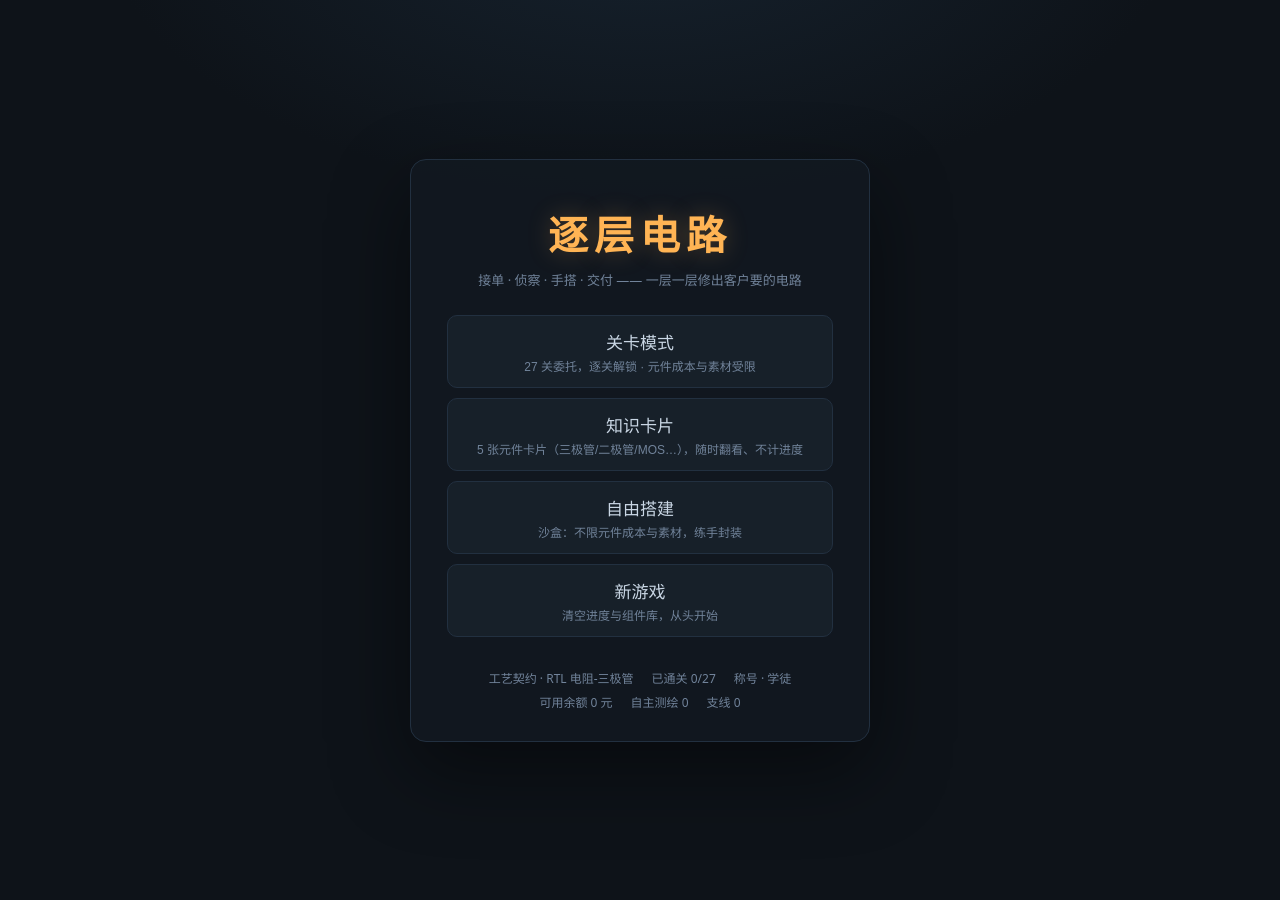
Scenario: 逻辑关电平文字：只显示 1 / 0（用户第 ⑭ 轮） › ④ 反证：自由模式（载入非门示例，含元件）图例与画布照旧带强/弱
Click the button "自由搭建 沙盒：不限元件成本与素材，练手封装".
click(640, 517)  # box [447,480,833,554]
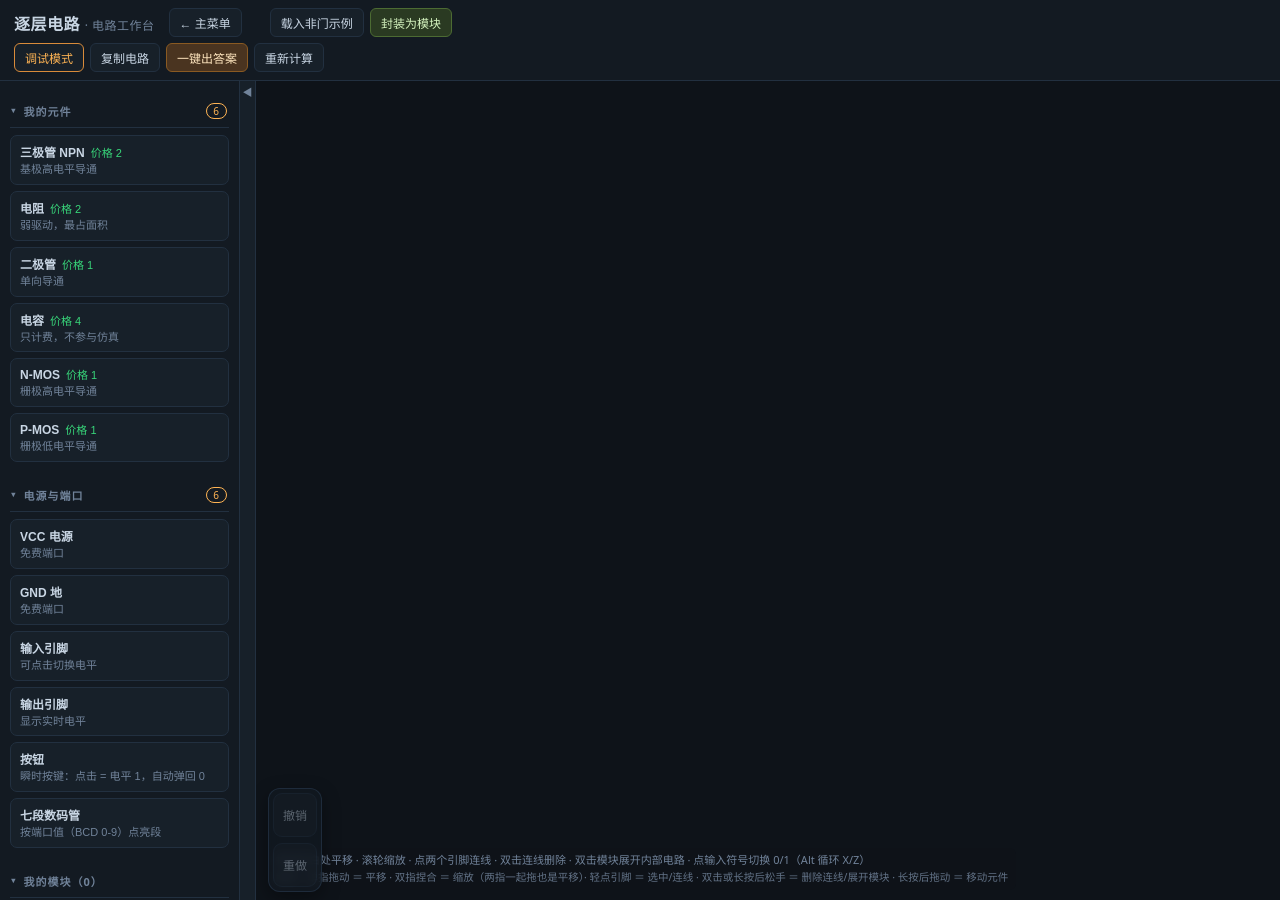
Click the button "载入非门示例".
click(317, 22)  # box [270,8,364,37]
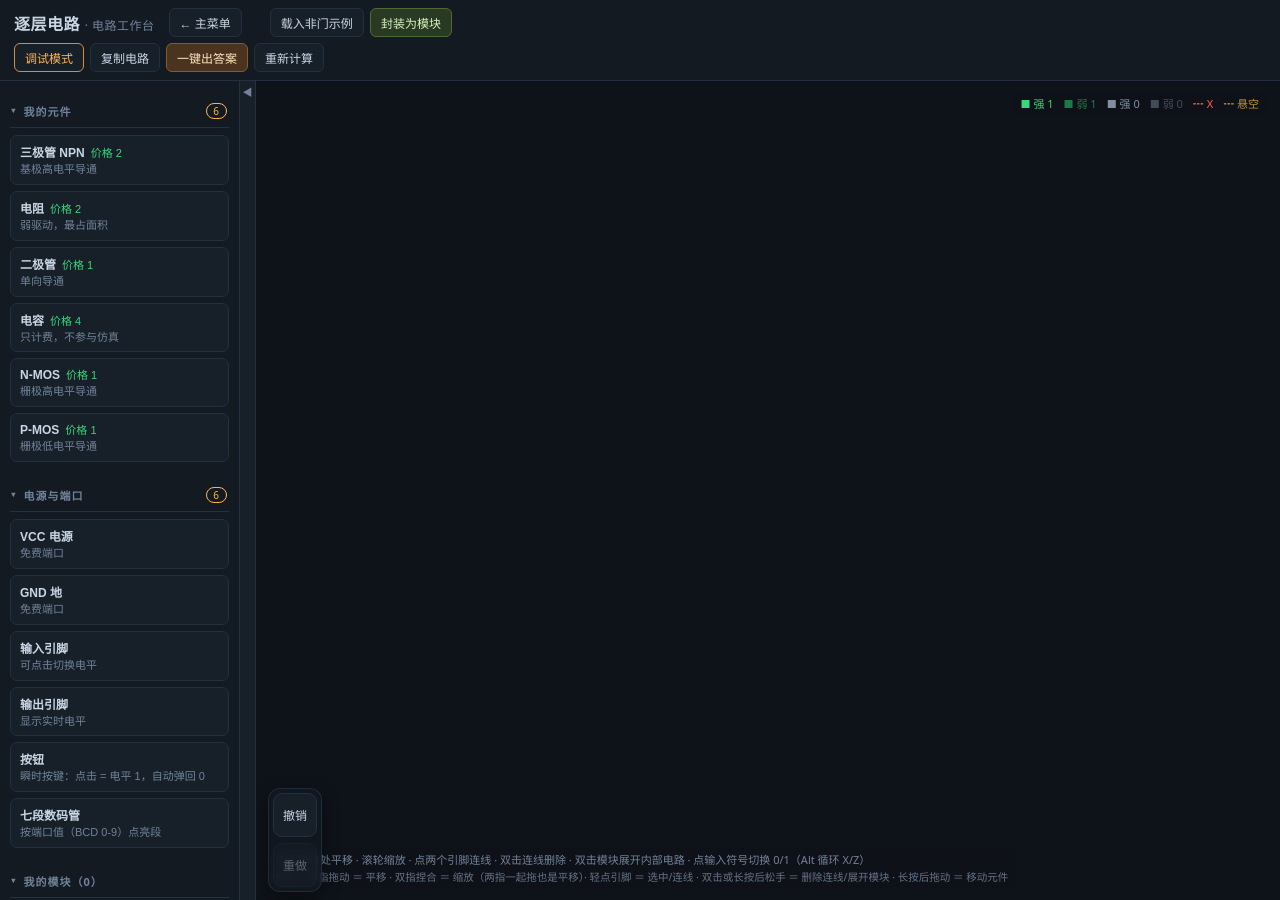
Result: the element with class "legend" is shown at [1012,91,1268,115]
